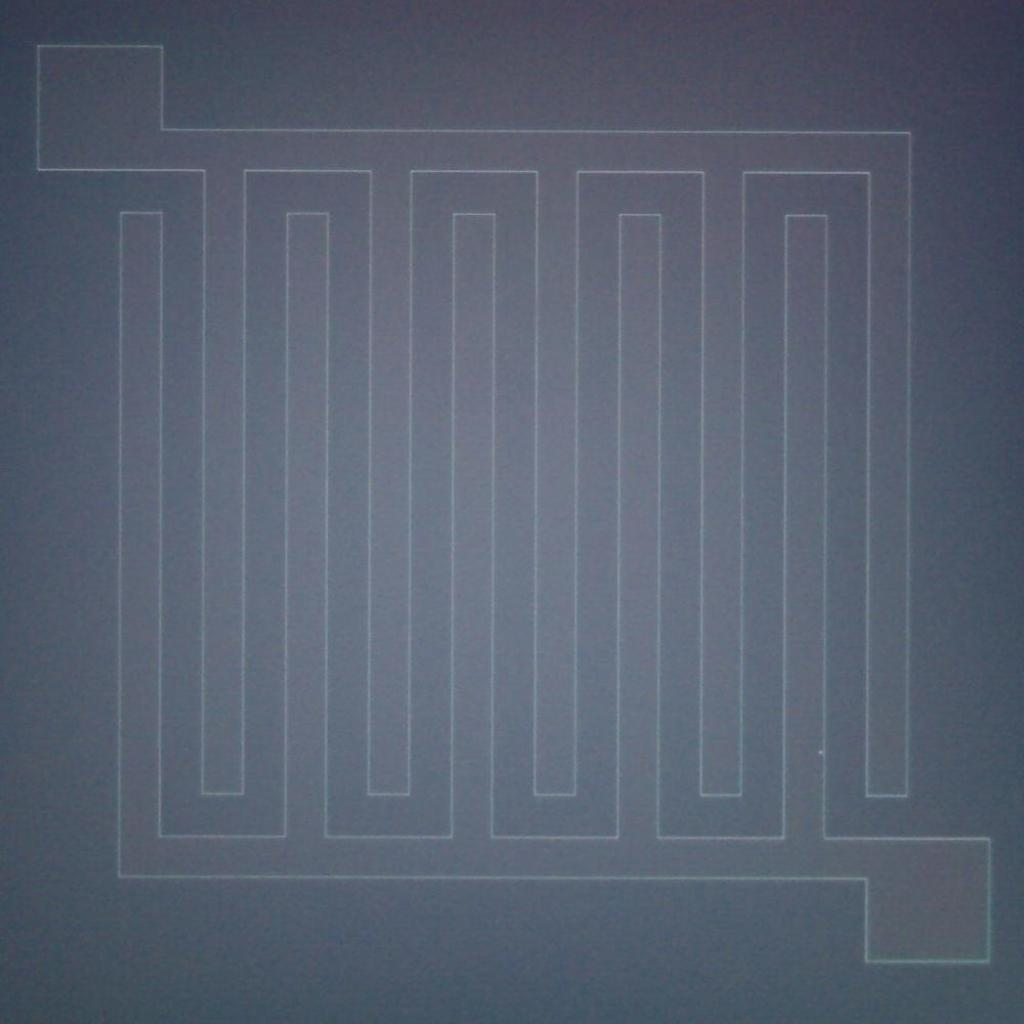dot: (818, 750, 822, 754)
